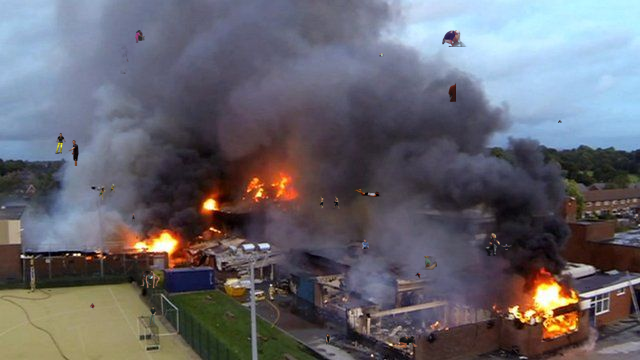Human: (436, 30, 468, 47), (45, 133, 66, 157), (139, 271, 160, 288), (117, 45, 129, 74), (485, 233, 500, 256), (67, 140, 79, 166), (97, 184, 116, 200), (393, 336, 418, 348), (318, 196, 340, 209), (419, 256, 437, 270), (354, 189, 382, 197), (448, 83, 456, 102), (149, 306, 156, 325), (135, 30, 145, 43), (325, 333, 331, 345), (362, 239, 369, 249), (501, 244, 512, 250), (90, 303, 98, 311), (415, 272, 421, 280), (132, 213, 135, 222), (379, 53, 384, 57), (636, 215, 639, 221), (585, 286, 590, 289), (558, 120, 562, 123), (569, 89, 571, 94)
